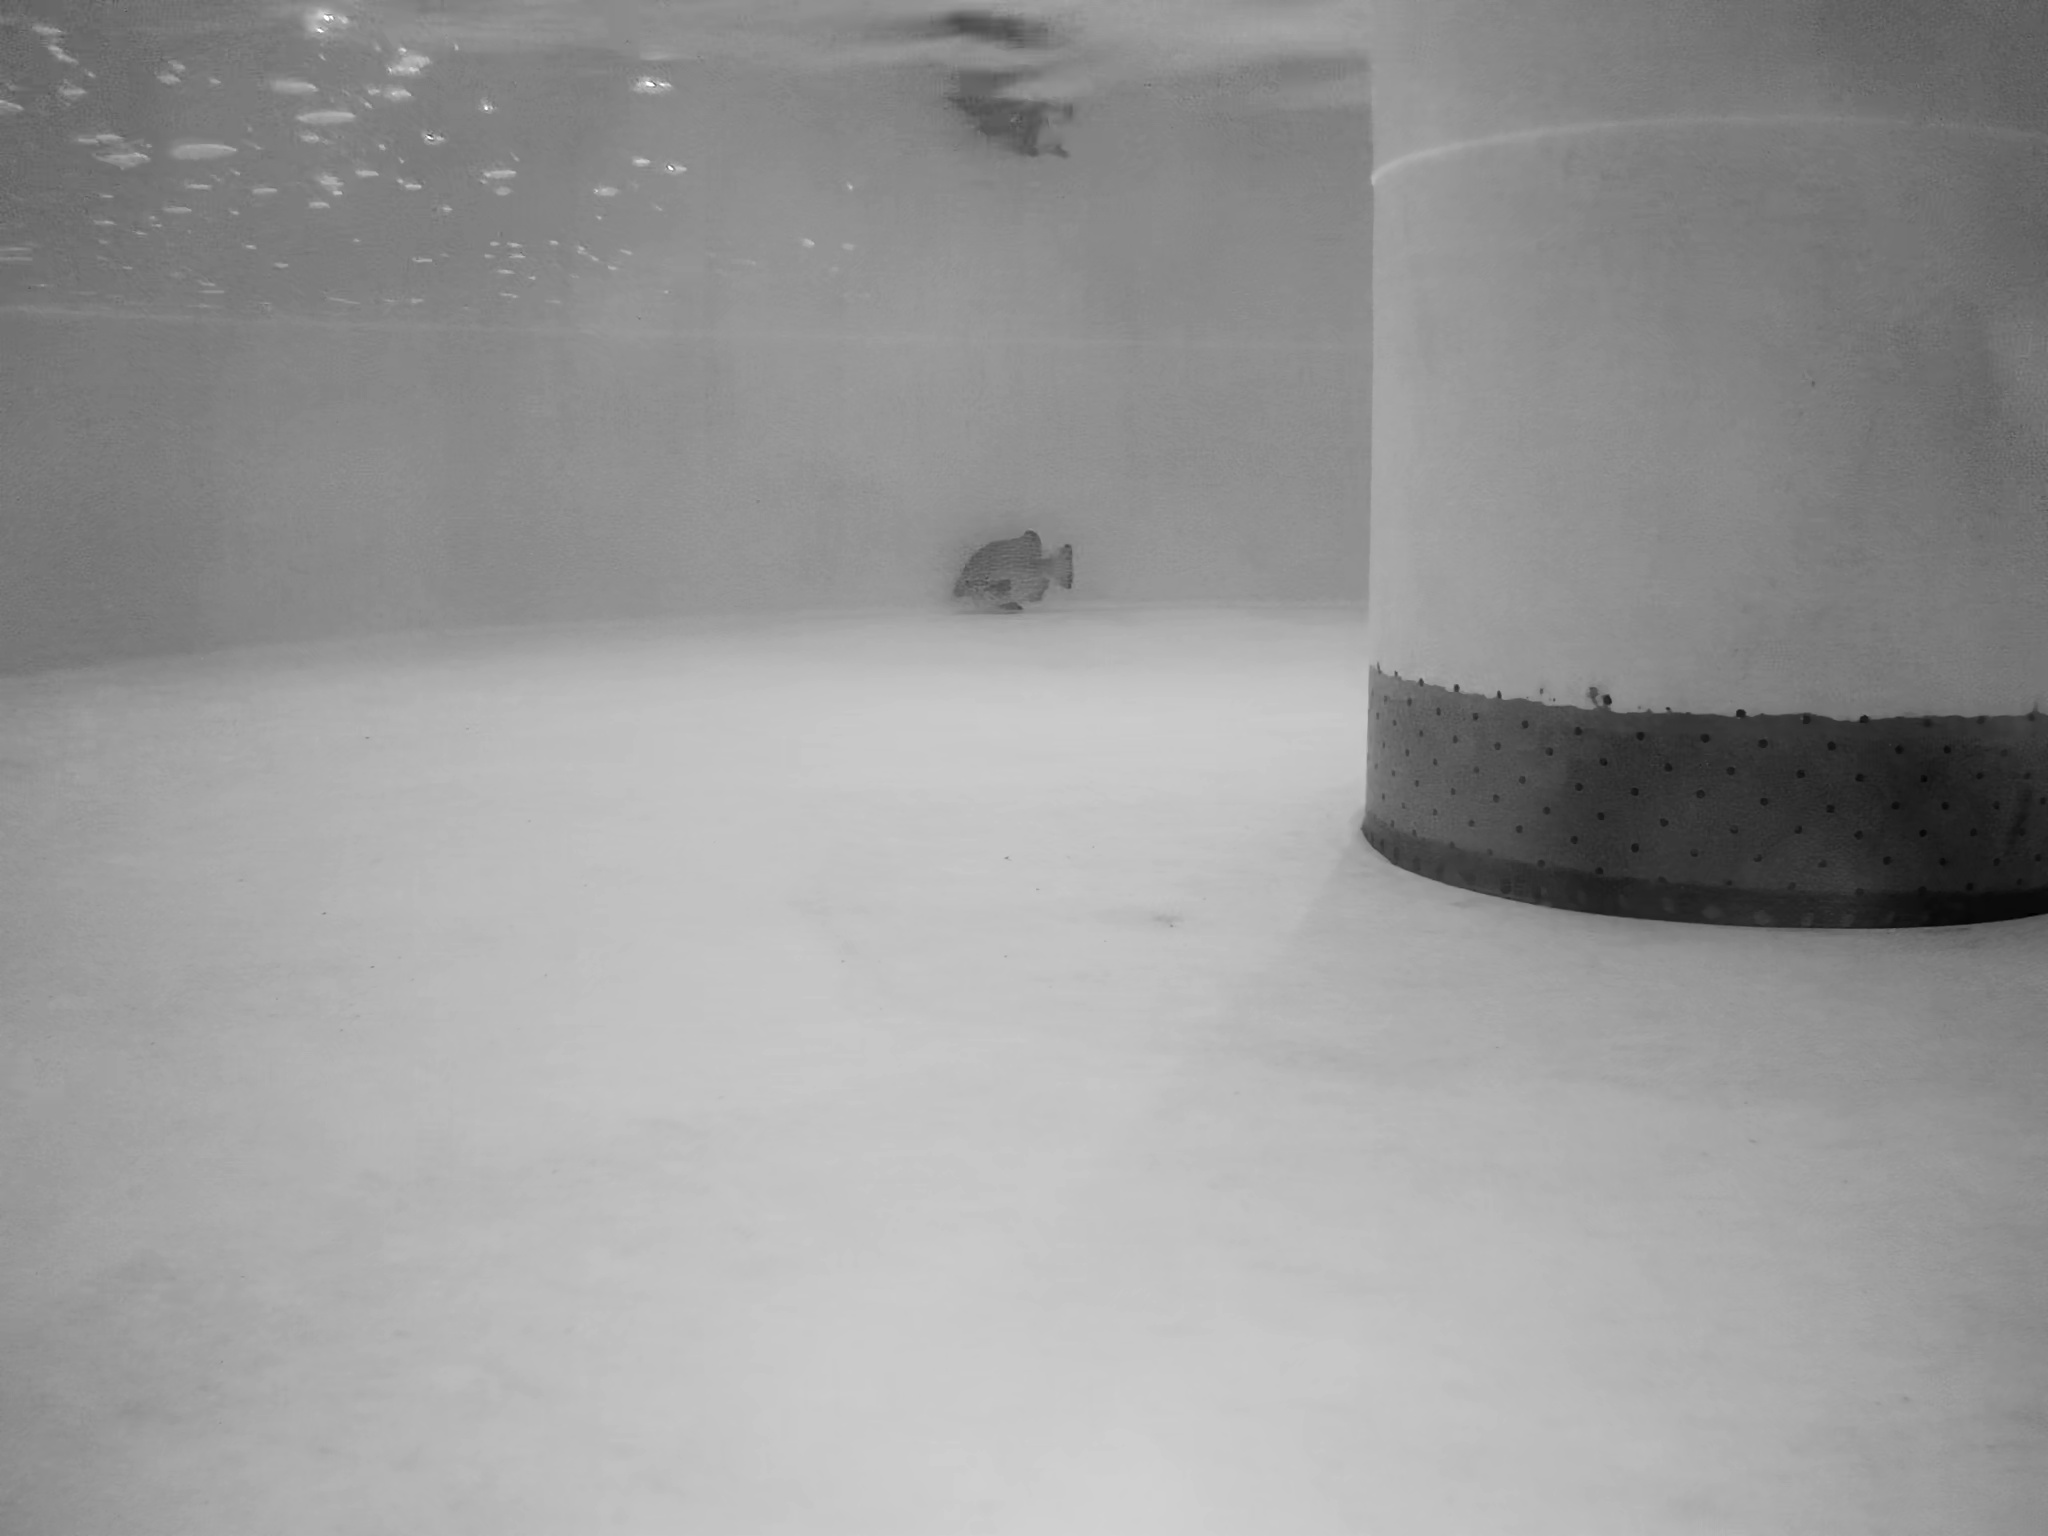fish: (945, 531, 1084, 618)
